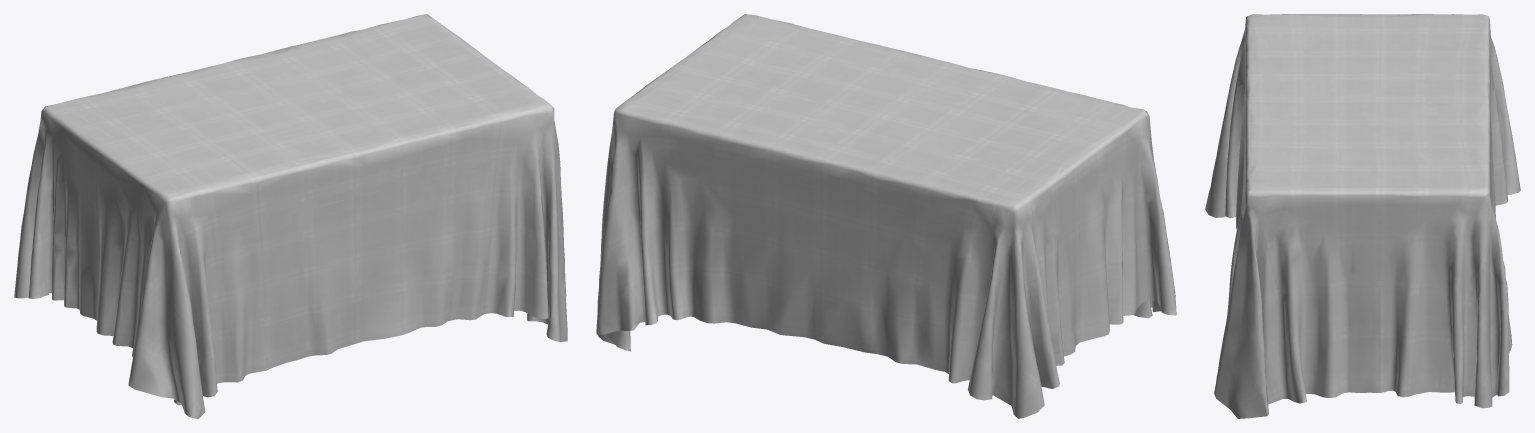
Rendered from compressed_tablecloth.glb.
3 views of the same model, side by side, from view 1: azimuth 30°, elevation 25°; view 2: azimuth 150°, elevation 25°; view 3: azimuth 270°, elevation 25° (orthographic). The views are drawn at different scales.
Visible parts, largest first — view 1: Object_2; view 2: Object_2; view 3: Object_2.
Part boxes in pixels (left/top/right/bottom): Object_2: left=14, top=14, right=567, bottom=418; Object_2: left=596, top=14, right=1176, bottom=418; Object_2: left=1205, top=14, right=1520, bottom=418.
Size of the model in its own units: 1.6 by 0.8109 by 1.04.
Materials: 1 (1 with a texture image).
